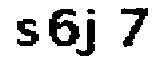6: (47, 7, 79, 49)
7: (116, 6, 150, 51)
j: (78, 8, 106, 60)
s: (13, 19, 39, 48)
